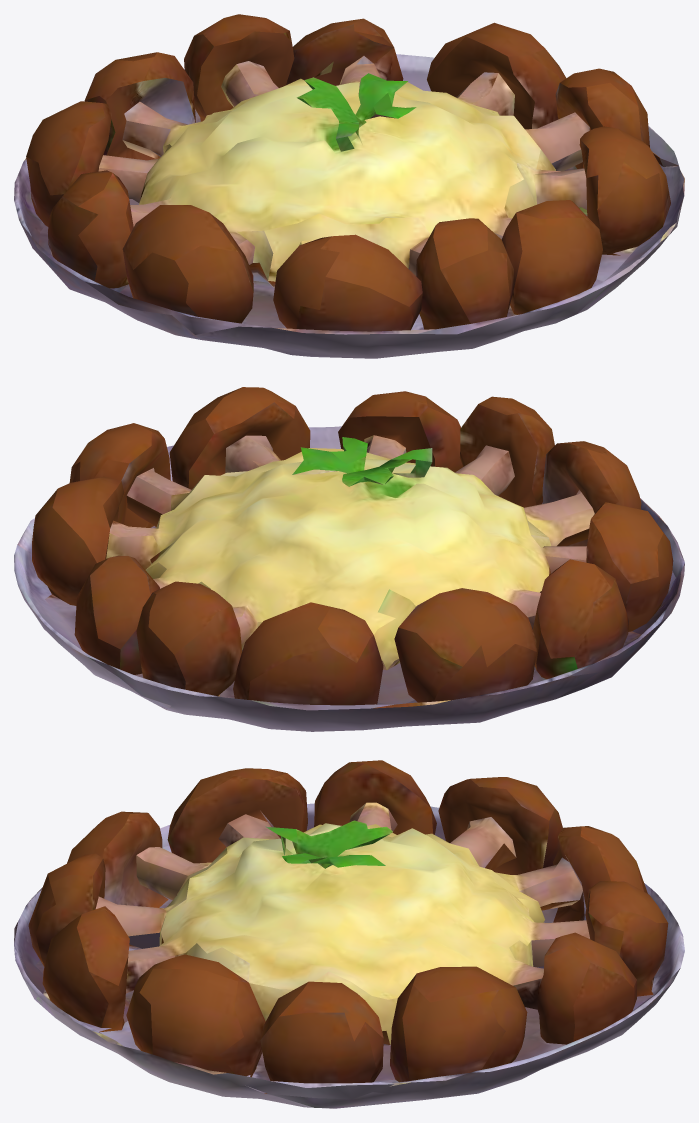
File: oyster_fry.glb
3 renders of one model, top to bottom at view 1: azimuth 30°, elevation 25°; view 2: azimuth 150°, elevation 25°; view 3: azimuth 270°, elevation 25°, orthographic.
Visible parts, largest first — view 1: oyster_fry; view 2: oyster_fry; view 3: oyster_fry.
Part boxes in pixels (left/top/right/bottom): oyster_fry: left=14, top=14, right=684, bottom=358; oyster_fry: left=14, top=387, right=684, bottom=731; oyster_fry: left=14, top=760, right=684, bottom=1108.
Size of the model in its own units: 1 by 0.2426 by 0.9989.
1 material, 1 textured.
